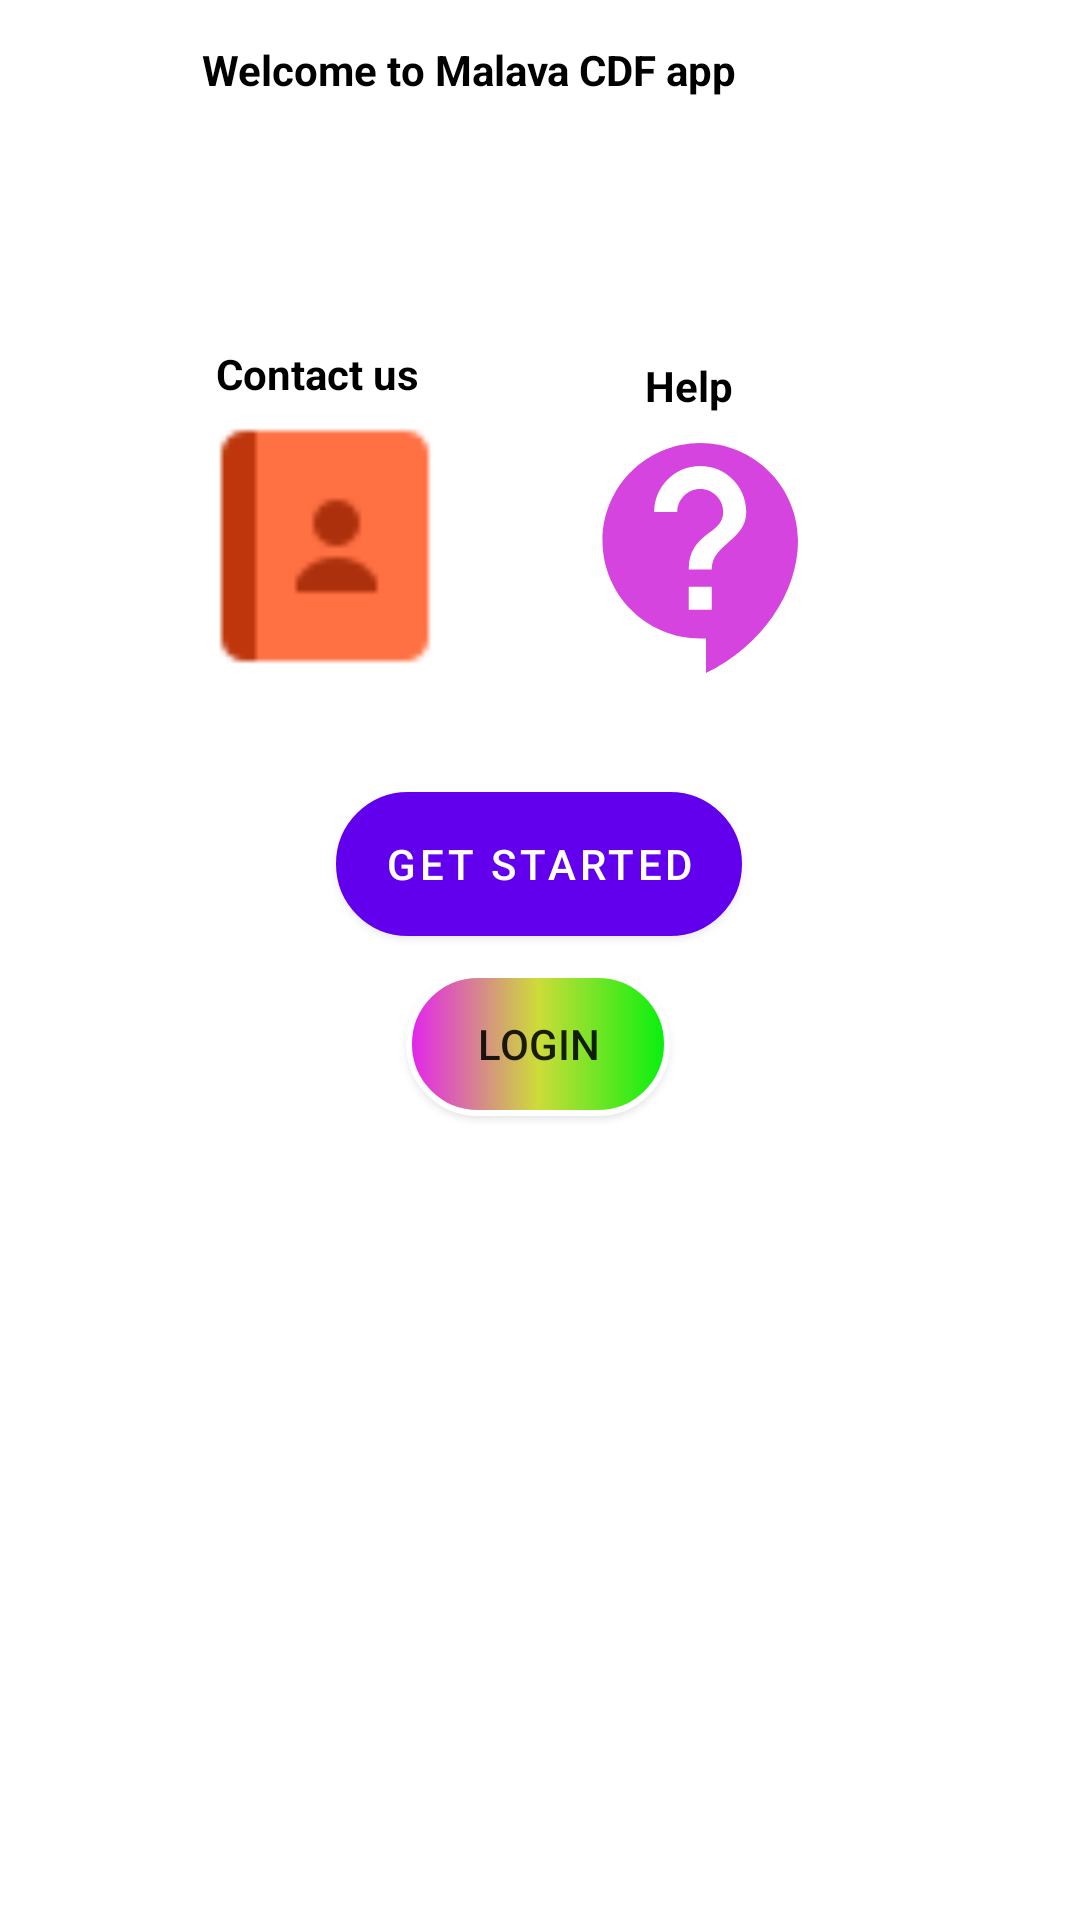

Icons on this 1080px x 1920px Android screen, each with the point to tap as (x=x, y=y):
contact support: (x=700, y=558)
